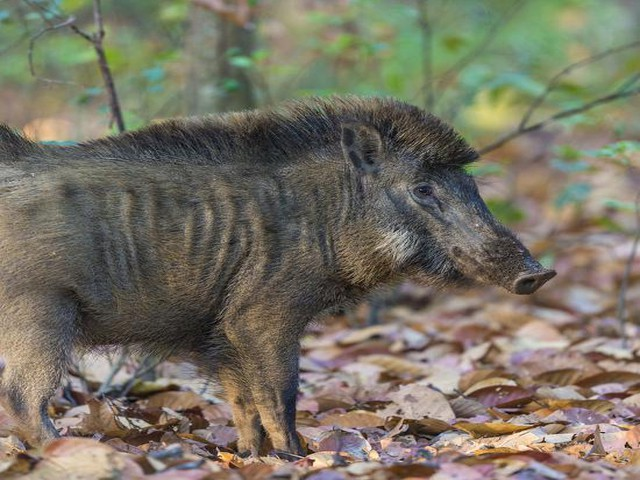Pig: (2, 91, 593, 447)
